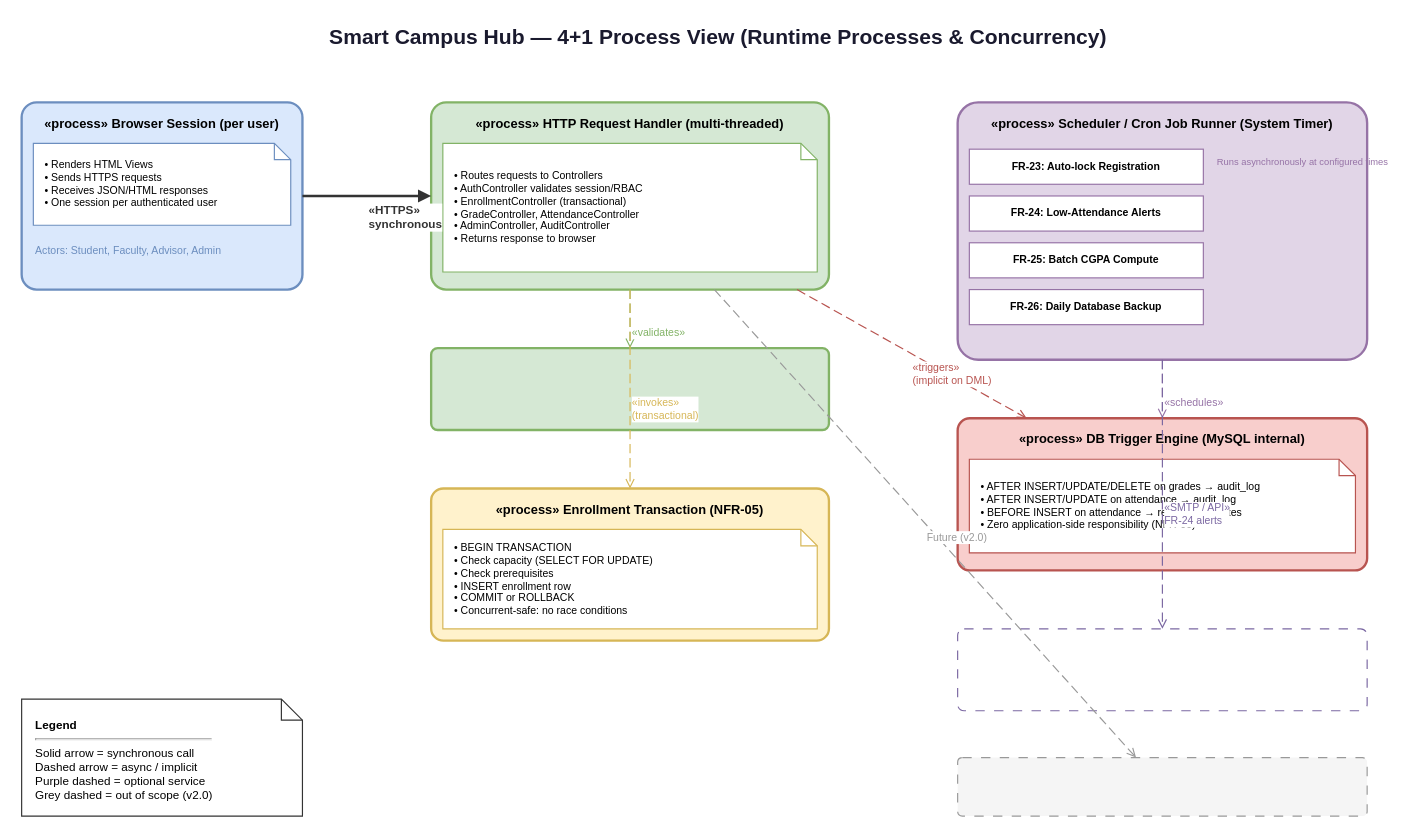
The diagram is 1408 pixels wide and 837 high, and some of its shapes have lost their labels. Here are the shapes that lost their labels. From the top down, the centre of each, then its label:
At (629,388): "«process» Auth Session Manager (bcrypt validation, RBAC check)".
At (1161,669): "«process» [optional] Notification Dispatcher (SMTP / API — email alerts)".
At (1161,786): "«process» FinanceModule (OUT OF SCOPE — v2.0)".
